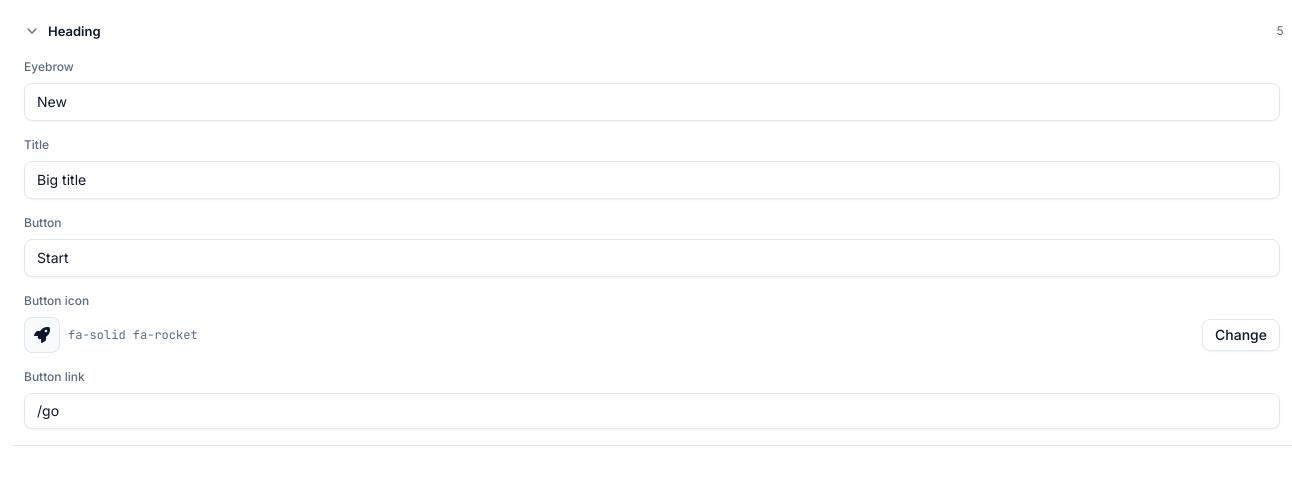
it: TextPanel › keeps an invalid link in the box with an error and doesn't apply it
Replace the text in the field labelled "Button link" with "javascript:alert(1)" at (652, 411), box x1=24 y1=393 x2=1280 y2=429
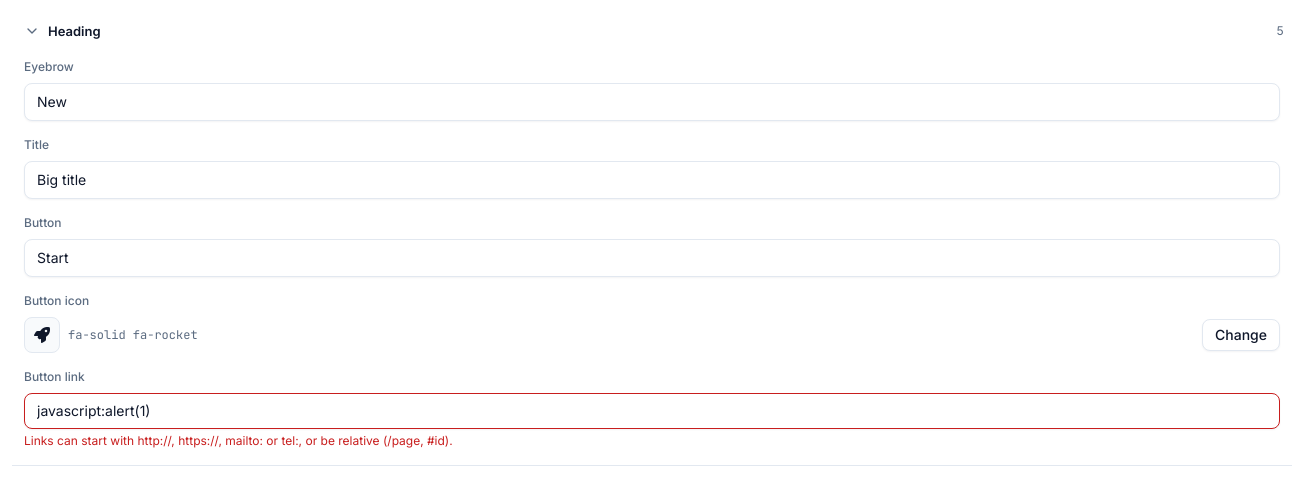
Check: the message shows "Links can start with", box x1=24 y1=433 x2=453 y2=448
Replace the text in the field labelled "Button link" with "/start" at (652, 411), box x1=24 y1=393 x2=1280 y2=429
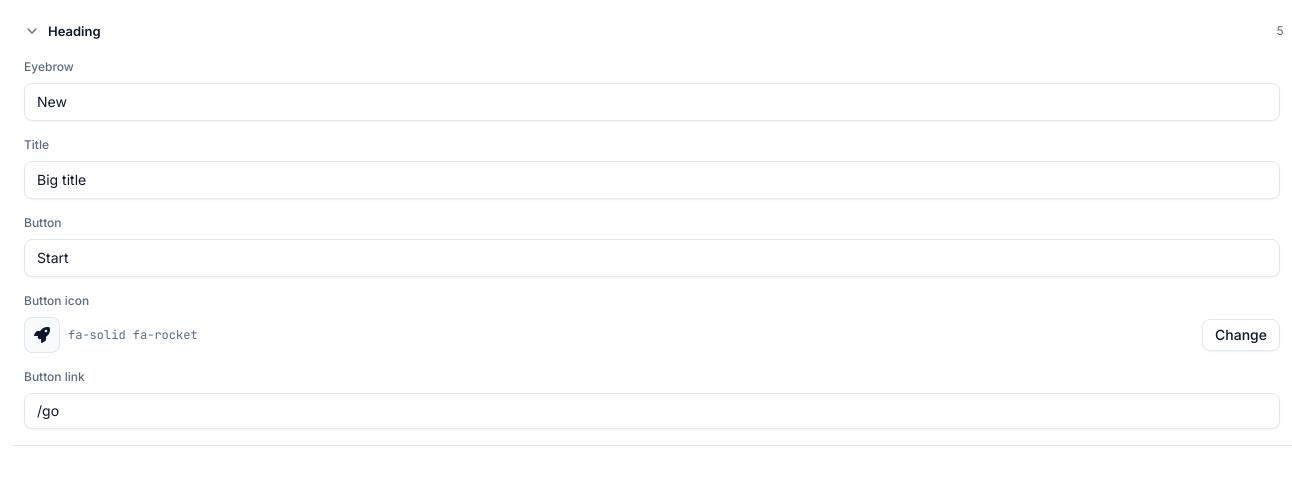
Check: the message "Links can start with http://, https://, mailto: or tel:, or be relative (/page," is gone
